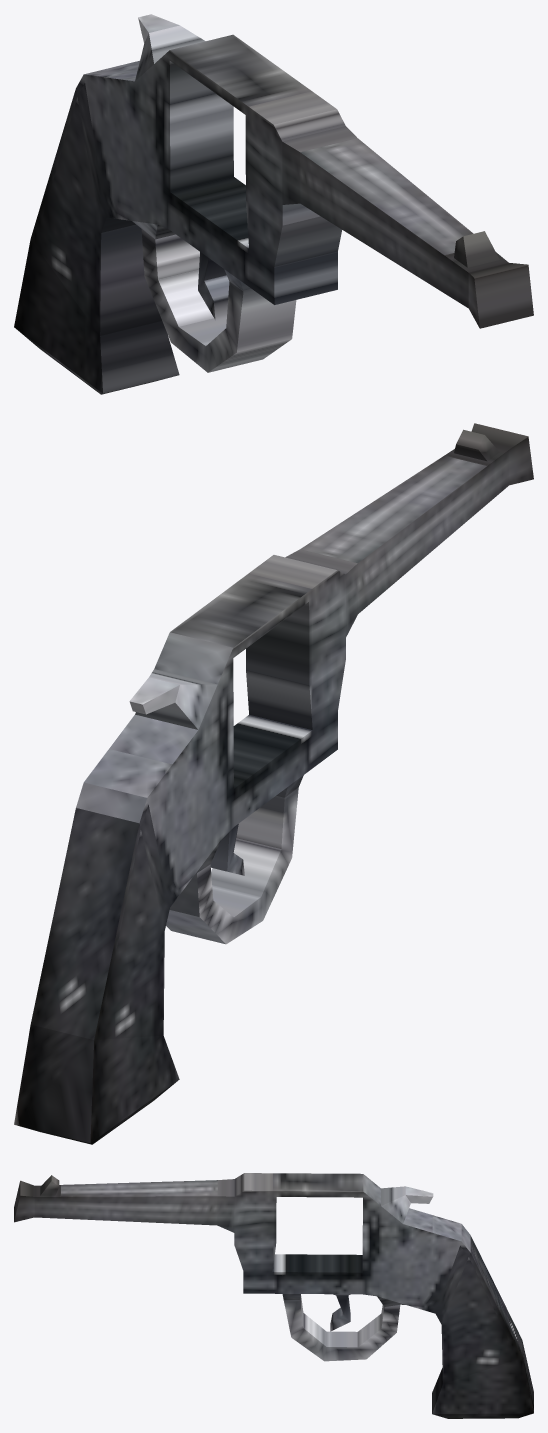
Rendered from gun_ver1.fbx.
3 views of the same model, one above another, from view 1: azimuth 30°, elevation 25°; view 2: azimuth 150°, elevation 25°; view 3: azimuth 270°, elevation 25° (orthographic). The views are drawn at different scales.
Visible parts, largest first — view 1: Cube; view 2: Cube; view 3: Cube.
Part boxes in pixels (x1,y1,x2,y2): Cube: (14, 14, 533, 394); Cube: (14, 423, 533, 1144); Cube: (14, 1173, 533, 1418).
Bounding box in the file's own units: 48.15 × 246 × 496.
